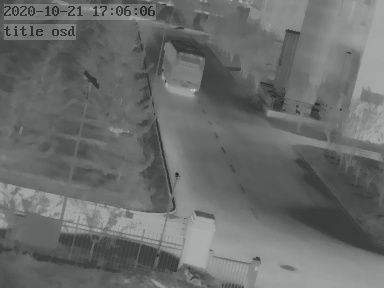vehicle: (160, 40, 205, 96)
